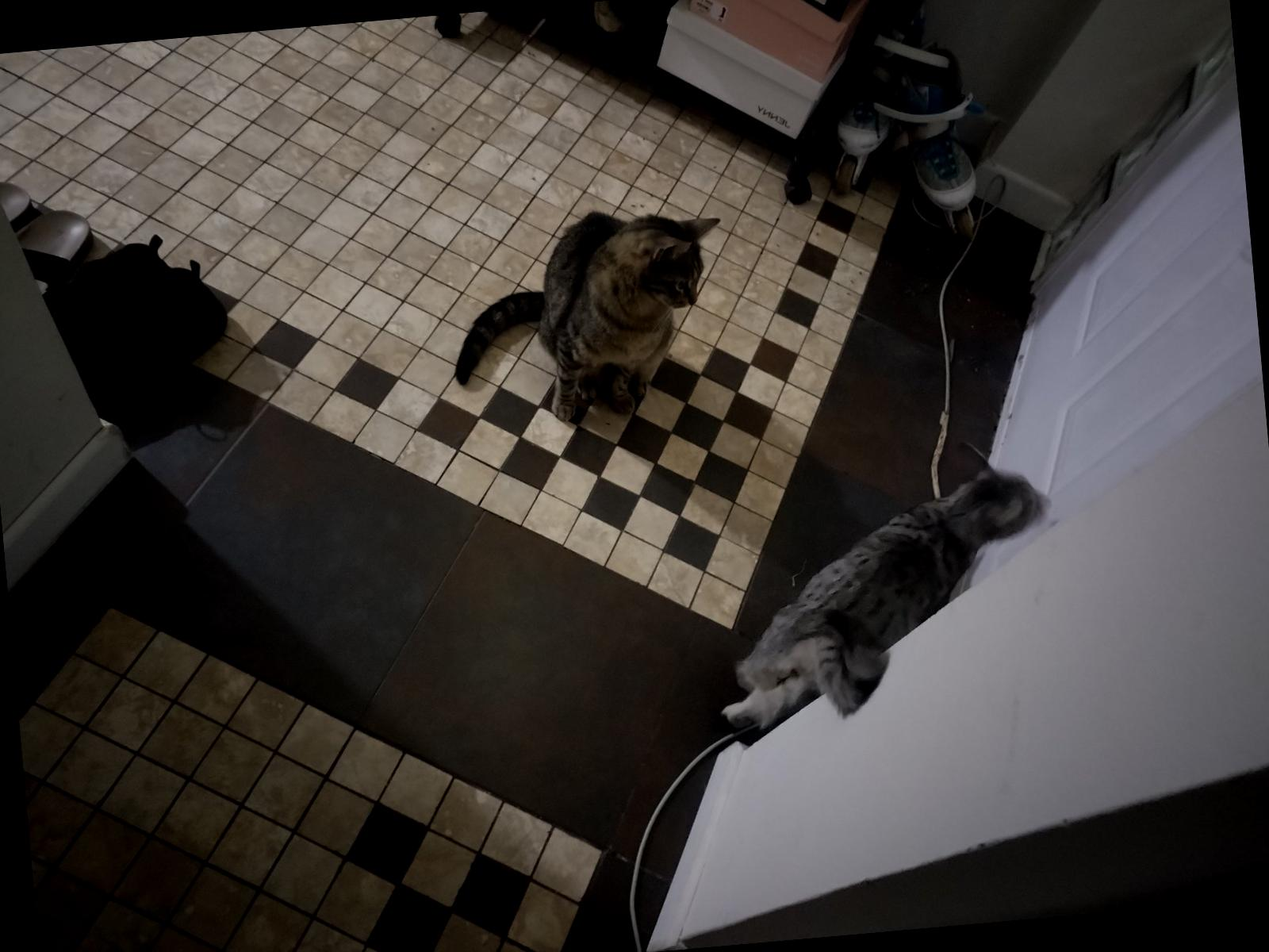macka: (691, 429, 1070, 740), (441, 198, 738, 435)
